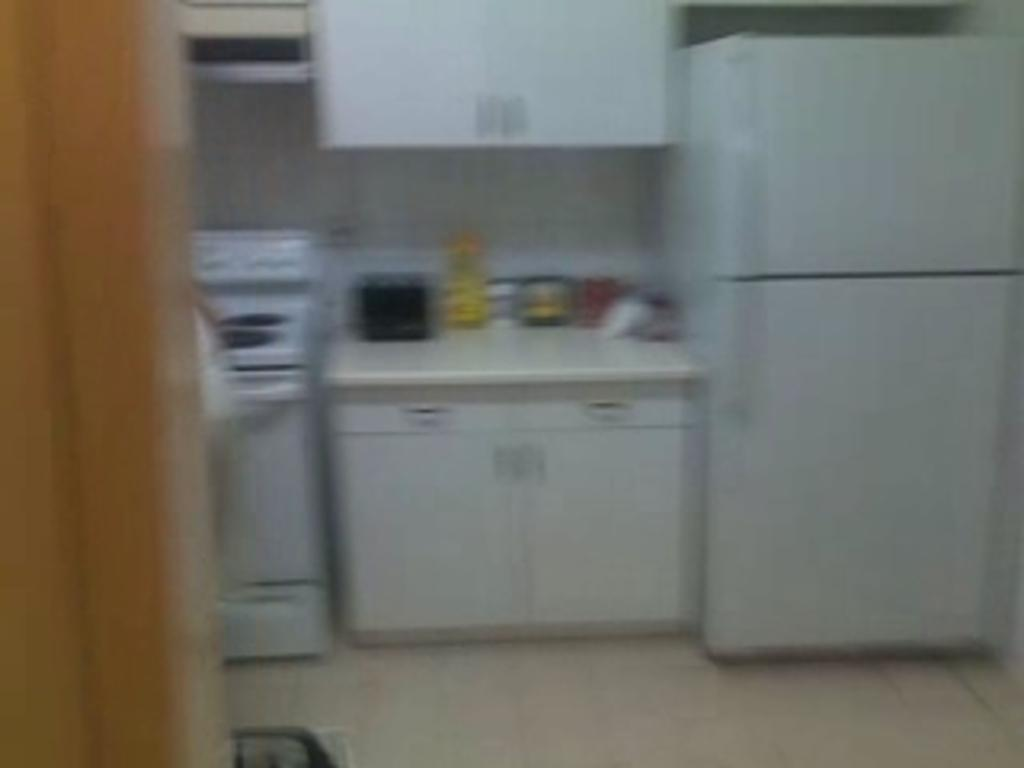cabinet_door: (360, 438, 526, 618), (534, 442, 690, 614), (497, 3, 668, 143), (334, 4, 486, 132), (330, 388, 518, 429), (534, 396, 674, 426)
handle: (728, 60, 765, 282), (724, 285, 758, 429), (466, 93, 494, 143), (494, 106, 524, 145), (590, 400, 634, 425), (402, 404, 452, 425)
